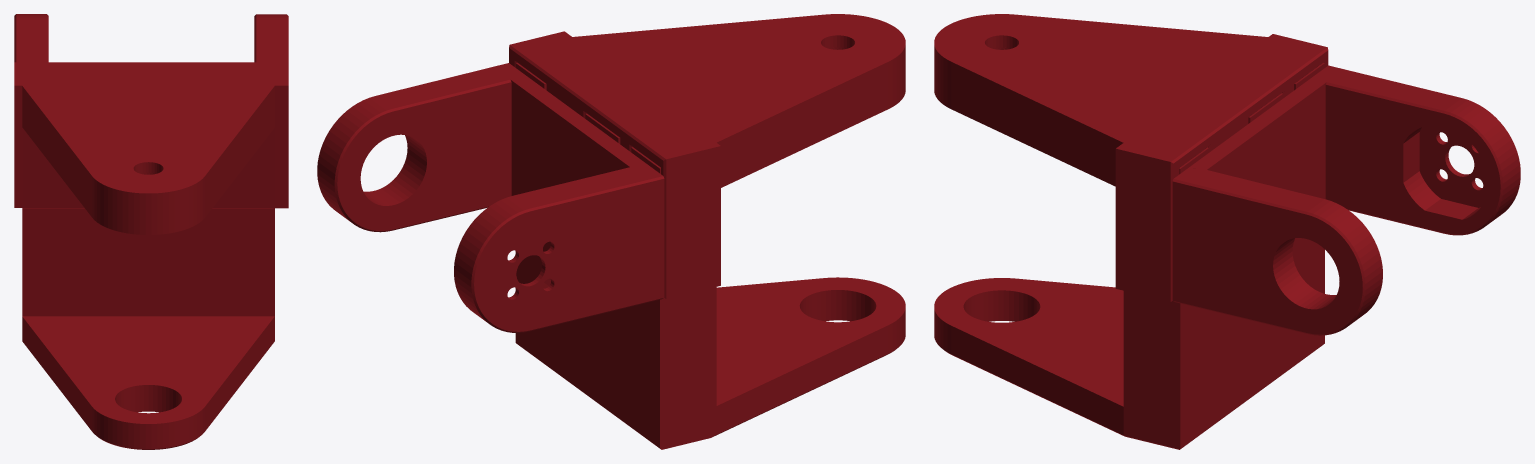
File: palm_link31.dae
The picture shows the model from 3 angles, left to right: view 1: azimuth 30°, elevation 25°; view 2: azimuth 150°, elevation 25°; view 3: azimuth 270°, elevation 25°; orthographic projection. The views are drawn at different scales.
Parts seen in each view (by area): view 1: palm_link31.001; view 2: palm_link31.001; view 3: palm_link31.001.
Part boxes in pixels (<box>): palm_link31.001: <box>14,14,288,449</box>; palm_link31.001: <box>317,14,905,449</box>; palm_link31.001: <box>934,14,1520,449</box>.
Size of the model in its own units: 68.49 by 87.13 by 48.25.
